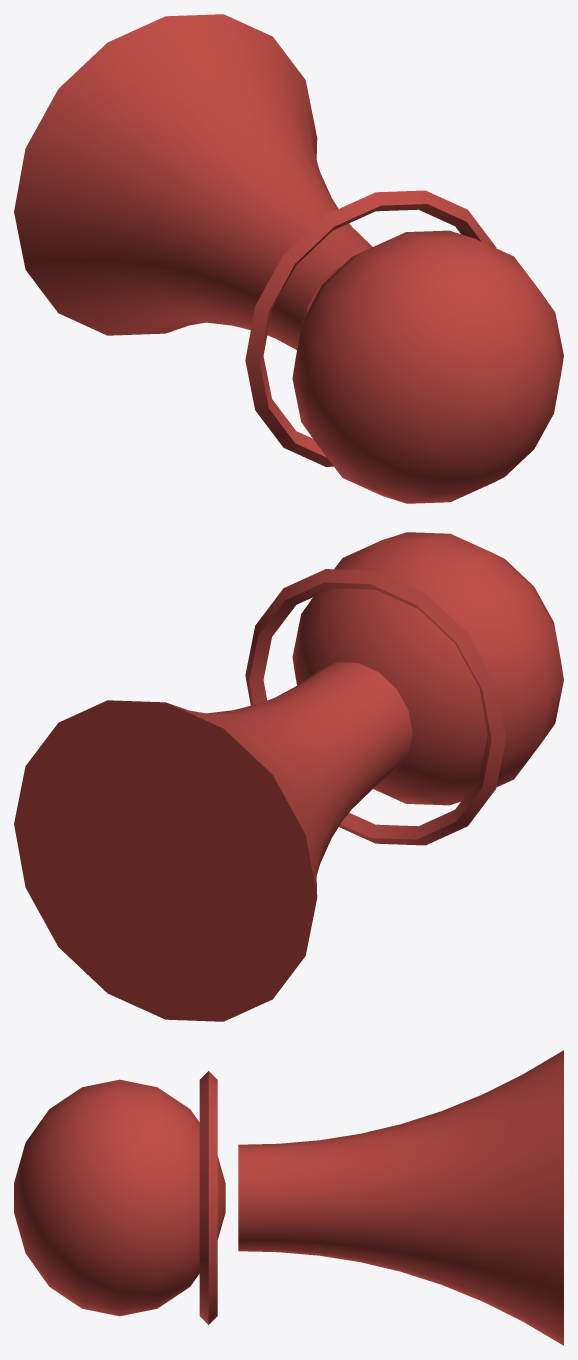
Rendered from klaxon.glb.
3 views of the same model, one above another, from view 1: azimuth 30°, elevation 25°; view 2: azimuth 150°, elevation 25°; view 3: azimuth 270°, elevation 25° (orthographic). The views are drawn at different scales.
Visible parts, largest first — view 1: lod0; view 2: lod0; view 3: lod0.
Boxes of the visible parts, bbox=[...] form: lod0: bbox=[14, 14, 563, 503]; lod0: bbox=[14, 532, 563, 1021]; lod0: bbox=[14, 1050, 563, 1345].
Size of what is drawn, in the model's own units: 0.1 by 0.1 by 0.1857.
